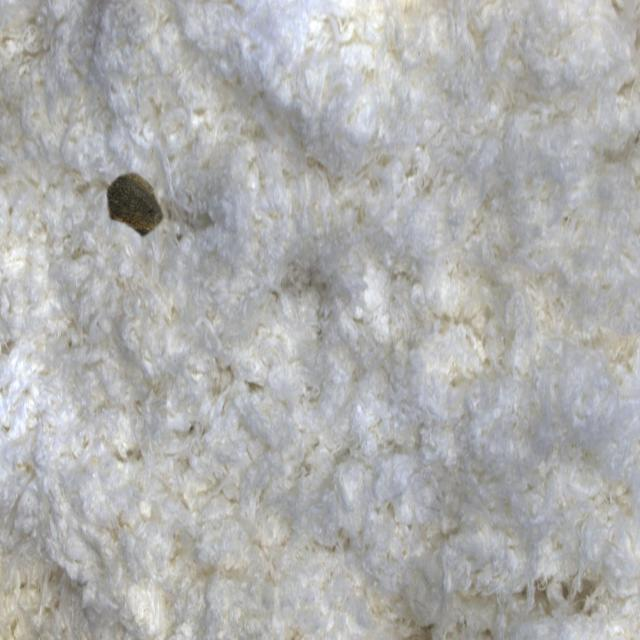dust: (91, 138, 194, 278)
